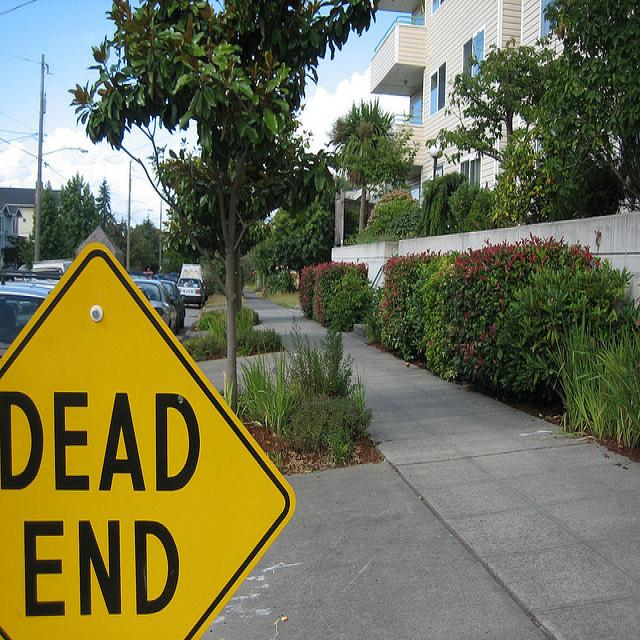Vehicle: (0, 279, 60, 359), (135, 280, 178, 334), (149, 279, 186, 334), (176, 265, 205, 307), (31, 259, 68, 276)
